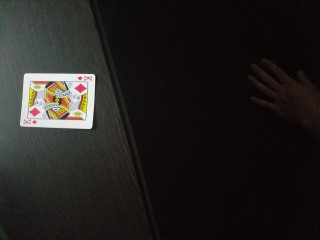KingOfDiamonds: (18, 72, 97, 130)
